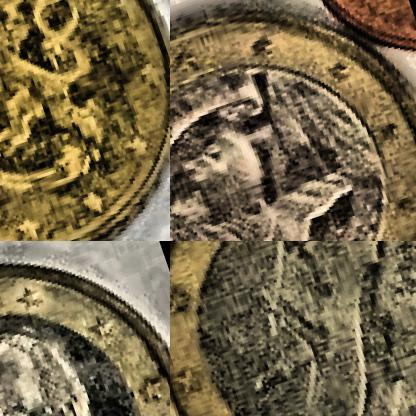coin: (170, 0, 415, 240), (170, 241, 415, 415), (0, 0, 169, 240), (0, 241, 169, 415)
